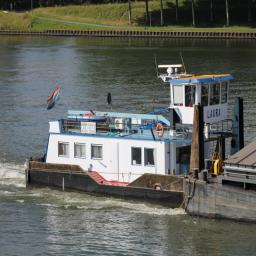tugboat: (23, 52, 250, 215)
